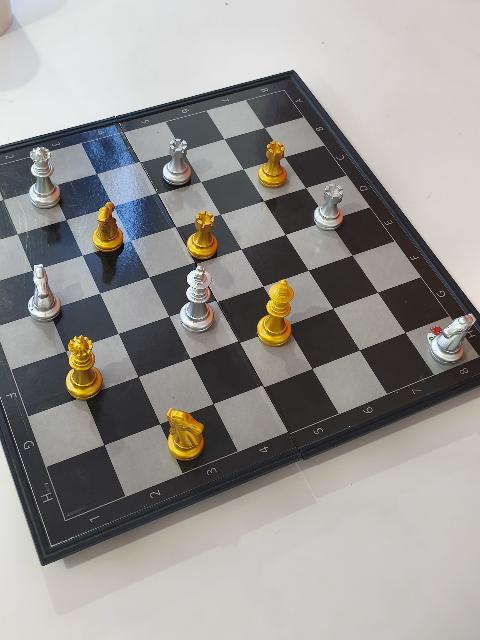black_king: (257, 281, 295, 348)
black_knight: (165, 408, 207, 464), (91, 200, 125, 254)
black_queen: (66, 336, 103, 402)
black_rook: (187, 210, 219, 262), (257, 140, 288, 190)
white_king: (182, 265, 214, 335)
white_knight: (432, 313, 478, 365), (27, 264, 62, 324)
white_queen: (28, 146, 60, 210)
white_rook: (162, 138, 193, 189), (314, 181, 345, 231)
